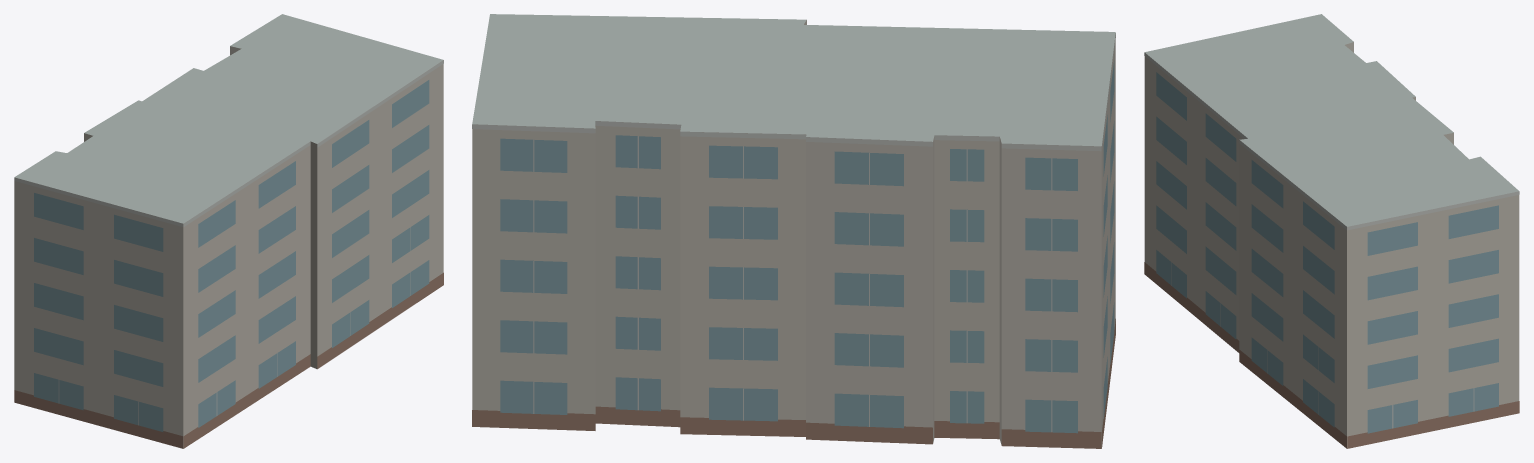
The model's file is survey-upis-32776209.glb.
3 renders of one model, left to right at view 1: azimuth 30°, elevation 25°; view 2: azimuth 150°, elevation 25°; view 3: azimuth 270°, elevation 25°, orthographic. The views are drawn at different scales.
Parts seen in each view (by area): view 1: survey-upis-32776209.tmp; view 2: survey-upis-32776209.tmp; view 3: survey-upis-32776209.tmp.
Boxes of the visible parts, x1=… form: survey-upis-32776209.tmp: x1=14, y1=14, x2=443, y2=448; survey-upis-32776209.tmp: x1=472, y1=14, x2=1115, y2=448; survey-upis-32776209.tmp: x1=1144, y1=14, x2=1519, y2=448.
Bounding box in the file's own units: 31.22 × 15.18 × 23.24.
